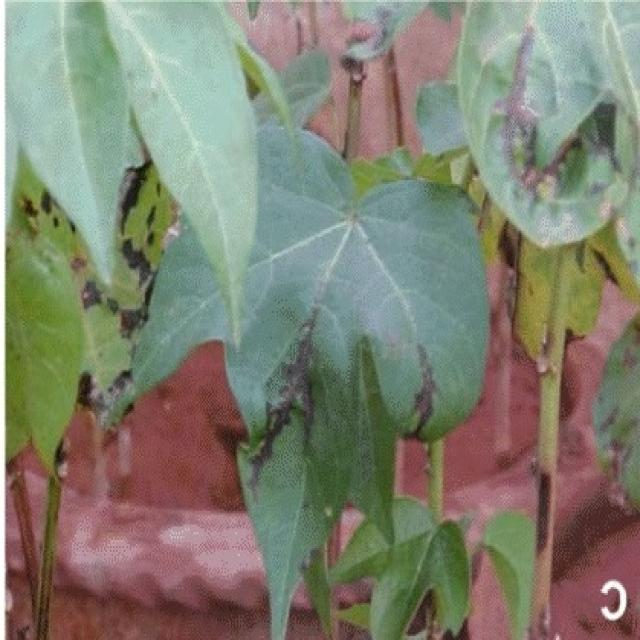Bacterial Blight: (200, 248, 440, 516)
